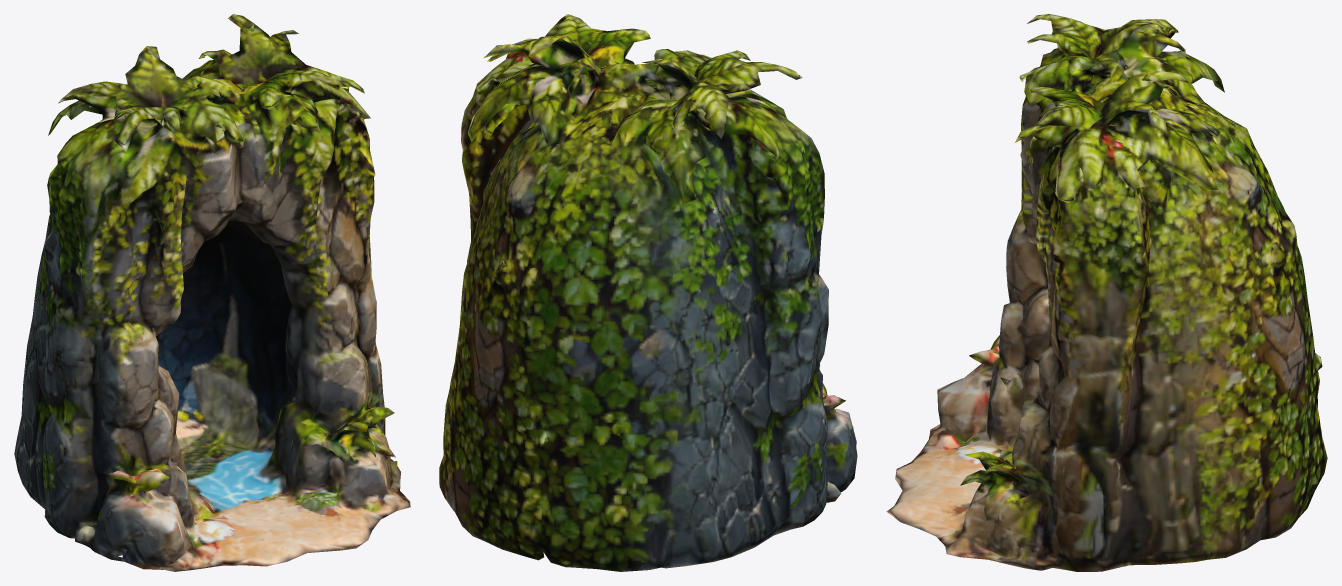
File: SummerDecor_BossRoom_SeaCave.fbx
The picture shows the model from 3 angles, left to right: view 1: azimuth 30°, elevation 25°; view 2: azimuth 150°, elevation 25°; view 3: azimuth 270°, elevation 25°; orthographic projection. The views are drawn at different scales.
Parts seen in each view (by area): view 1: SummerDecor_BossRoom_SeaCave_Mesh; view 2: SummerDecor_BossRoom_SeaCave_Mesh; view 3: SummerDecor_BossRoom_SeaCave_Mesh.
Boxes of the visible parts, left/top/right/bottom form: SummerDecor_BossRoom_SeaCave_Mesh: left=14, top=14, right=410, bottom=571; SummerDecor_BossRoom_SeaCave_Mesh: left=439, top=14, right=857, bottom=571; SummerDecor_BossRoom_SeaCave_Mesh: left=886, top=14, right=1327, bottom=571.
Bounding box in the file's own units: 4.75 × 6 × 5.28.
Materials: 1 (1 with a texture image).
